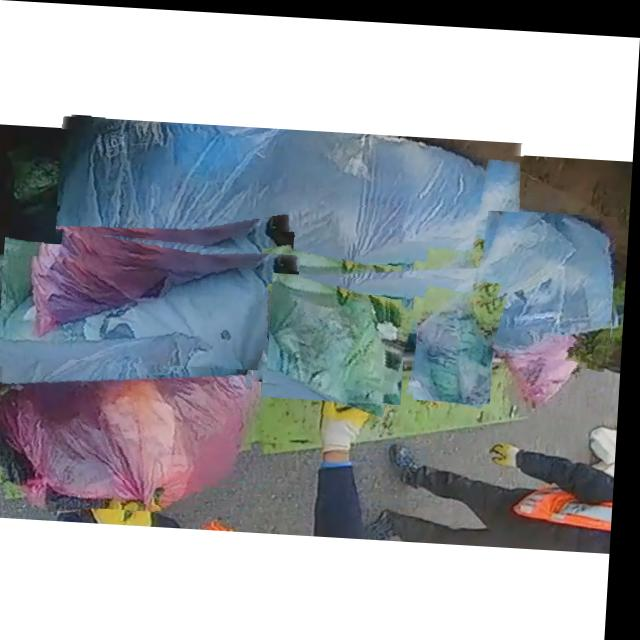general_trashbag: (275, 270, 393, 413)
other_trashbag: (59, 117, 523, 276), (5, 290, 258, 507), (8, 246, 300, 366), (478, 207, 616, 342), (422, 286, 496, 396), (509, 338, 591, 397), (271, 365, 272, 367)
